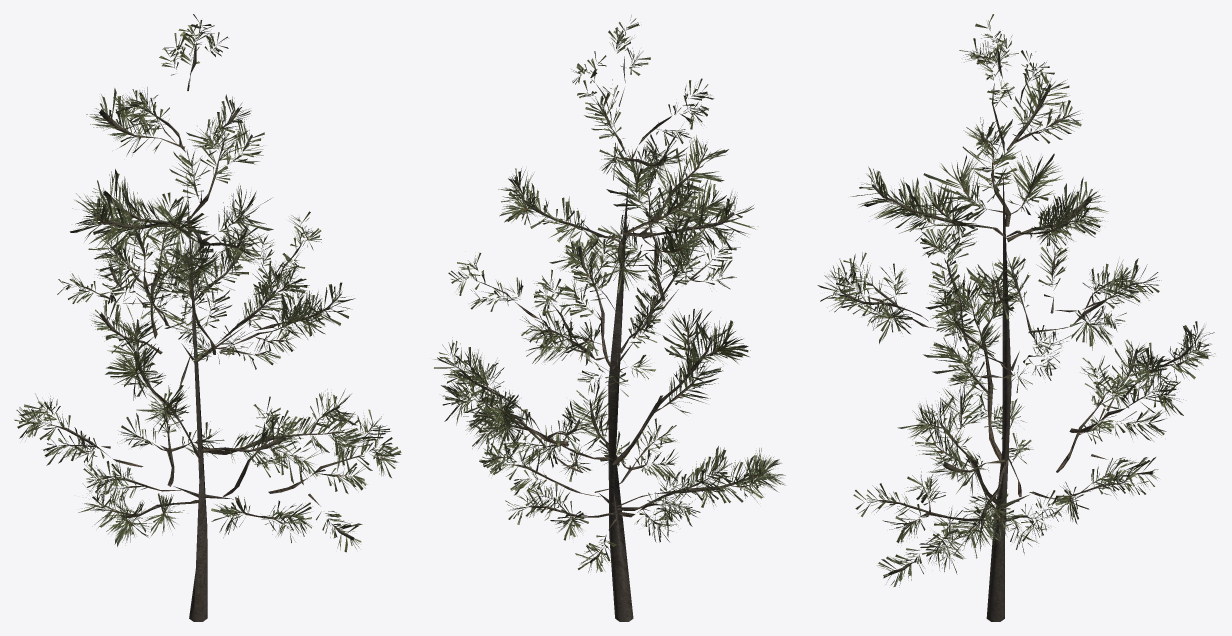
The model's file is pine-young.glb.
3 views of the same model, side by side, from view 1: azimuth 30°, elevation 25°; view 2: azimuth 150°, elevation 25°; view 3: azimuth 270°, elevation 25° (orthographic).
Visible parts, largest first — view 1: pine_sapling_small_c; view 2: pine_sapling_small_c; view 3: pine_sapling_small_c.
Part boxes in pixels (x1,y1,x2,y2): pine_sapling_small_c: (14,14,401,621); pine_sapling_small_c: (434,15,785,621); pine_sapling_small_c: (817,14,1215,621).
Size of the model in its own units: 0.5117 by 0.9593 by 0.58.
Materials: 2 (2 with a texture image).
